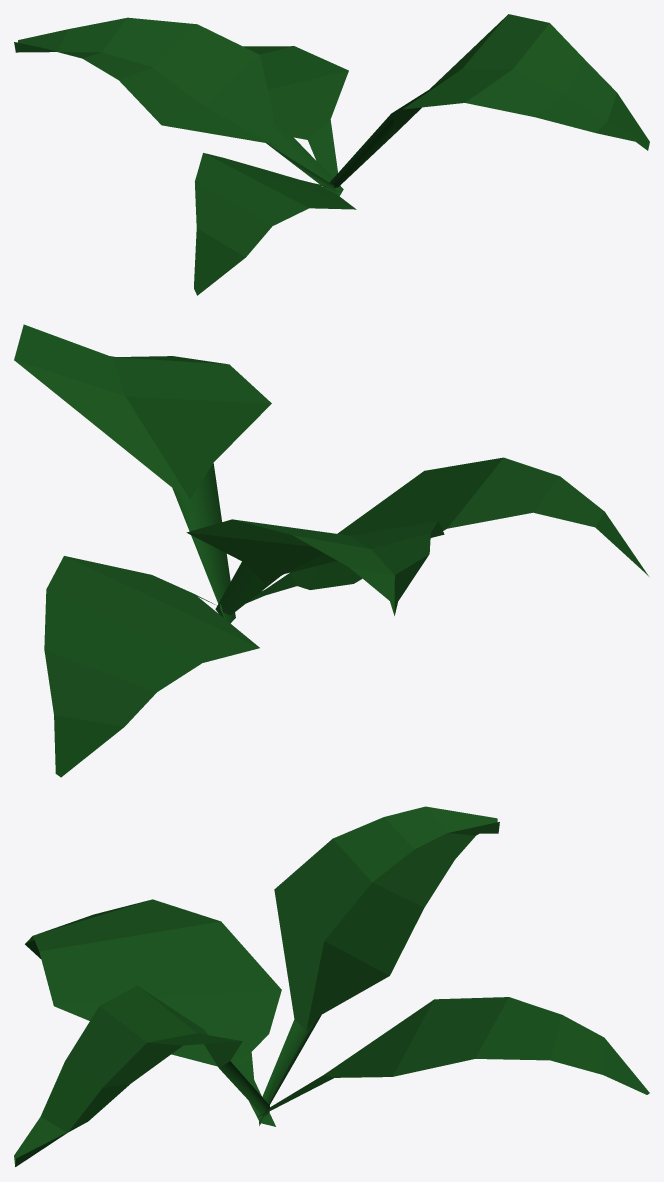
Rendered from SM_groundcover_plant_02.fbx.
The picture shows the model from 3 angles, top to bottom: view 1: azimuth 30°, elevation 25°; view 2: azimuth 150°, elevation 25°; view 3: azimuth 270°, elevation 25°; orthographic projection. The views are drawn at different scales.
Visible parts, largest first — view 1: groundcover_plant_02; view 2: groundcover_plant_02; view 3: groundcover_plant_02.
Boxes of the visible parts, x1,y1,x2,y2 form: groundcover_plant_02: (14, 14, 649, 295); groundcover_plant_02: (14, 324, 648, 777); groundcover_plant_02: (14, 806, 649, 1166).
Bounding box in the file's own units: 105 × 35 × 107.
